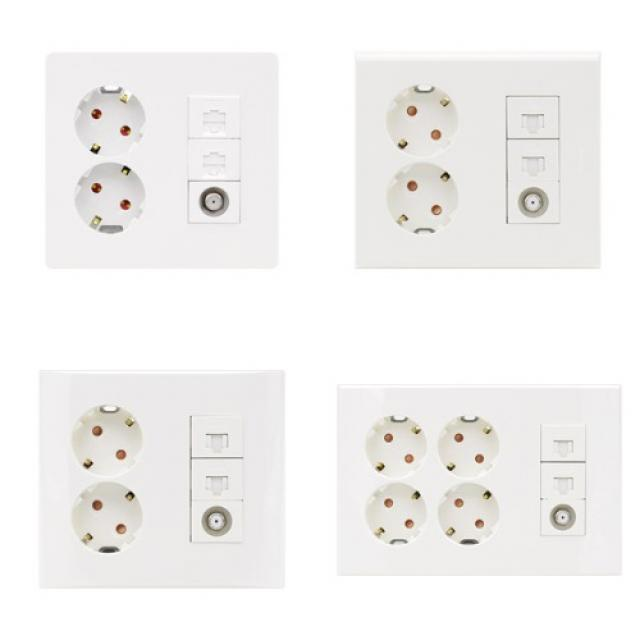typeb: (58, 66, 177, 260), (366, 84, 470, 253), (66, 405, 150, 476), (359, 405, 426, 480)
